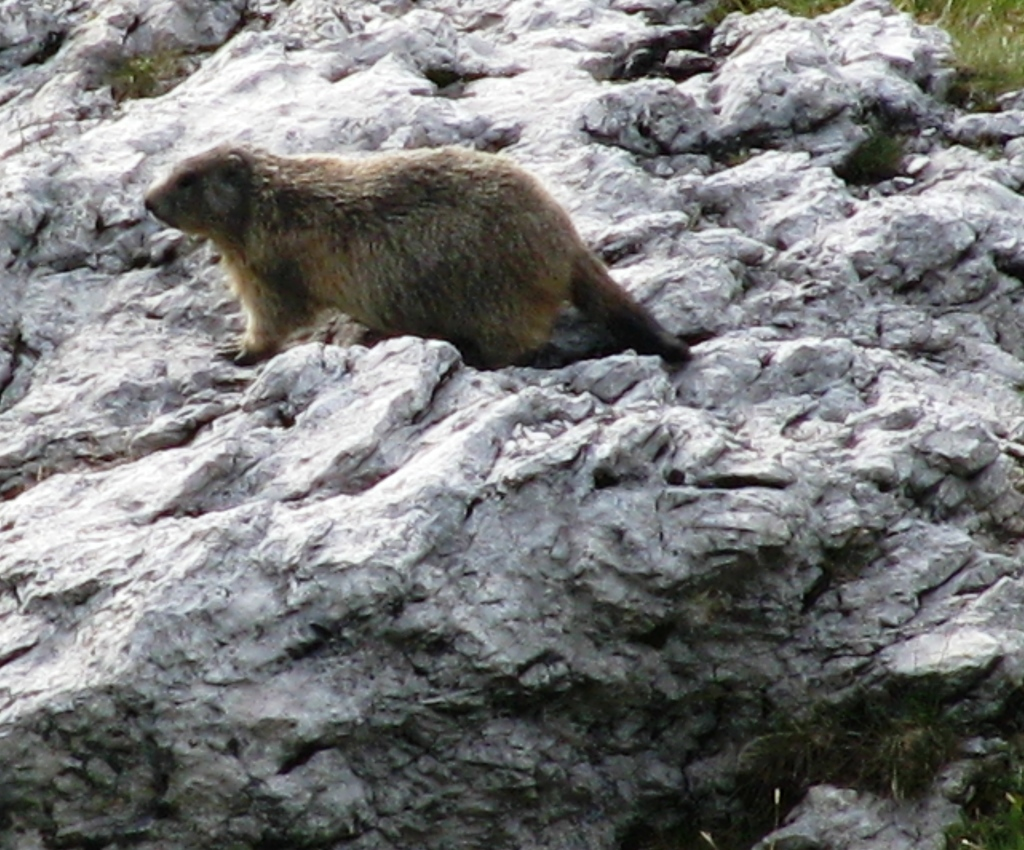Animal: (146, 143, 713, 371)
